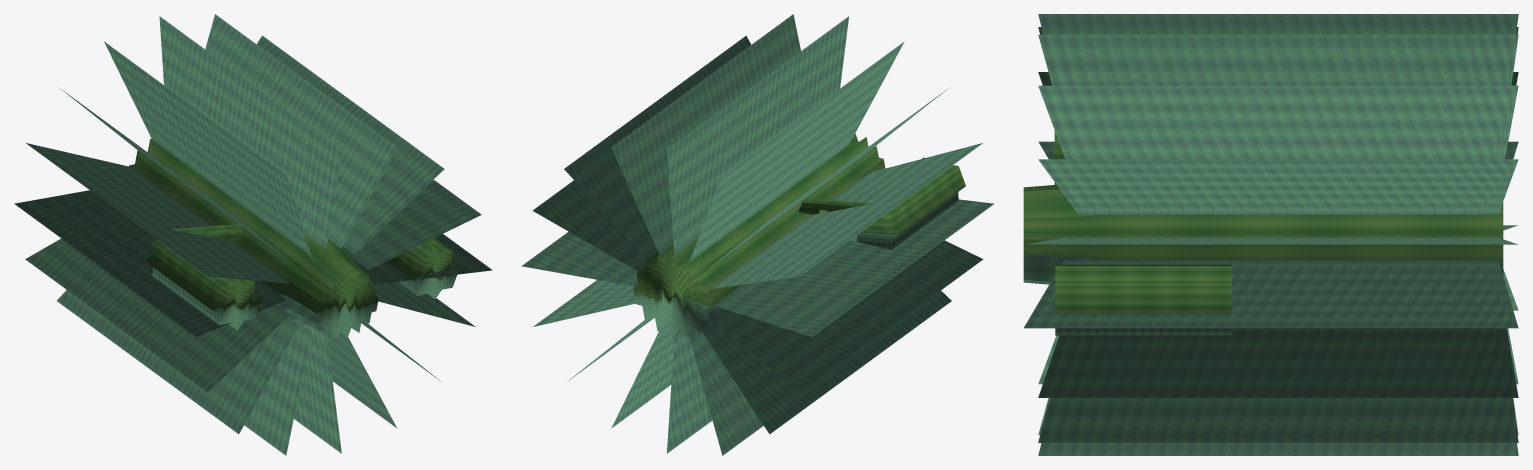
Rendered from veg_succulent_echeveria_01.obj.
The picture shows the model from 3 angles, left to right: view 1: azimuth 30°, elevation 25°; view 2: azimuth 150°, elevation 25°; view 3: azimuth 270°, elevation 25°; orthographic projection. The views are drawn at different scales.
Parts seen in each view (by area): view 1: veg_succulent_echeveria_01; view 2: veg_succulent_echeveria_01; view 3: veg_succulent_echeveria_01.
Boxes of the visible parts, x1,y1,x2,y2 form: veg_succulent_echeveria_01: [14, 14, 492, 455]; veg_succulent_echeveria_01: [521, 14, 994, 455]; veg_succulent_echeveria_01: [1023, 14, 1518, 455].
Size of the model in its own units: 0.2233 by 0.2233 by 0.25.
1 material, 1 textured.
